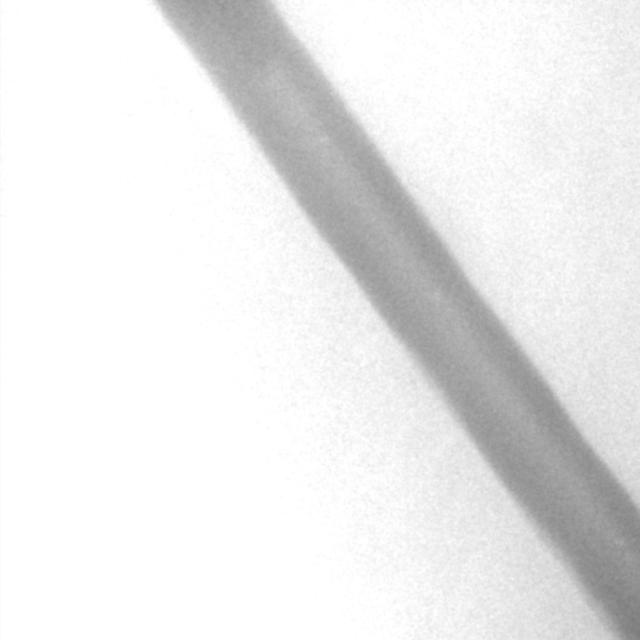air-hole: (320, 129, 329, 142)
